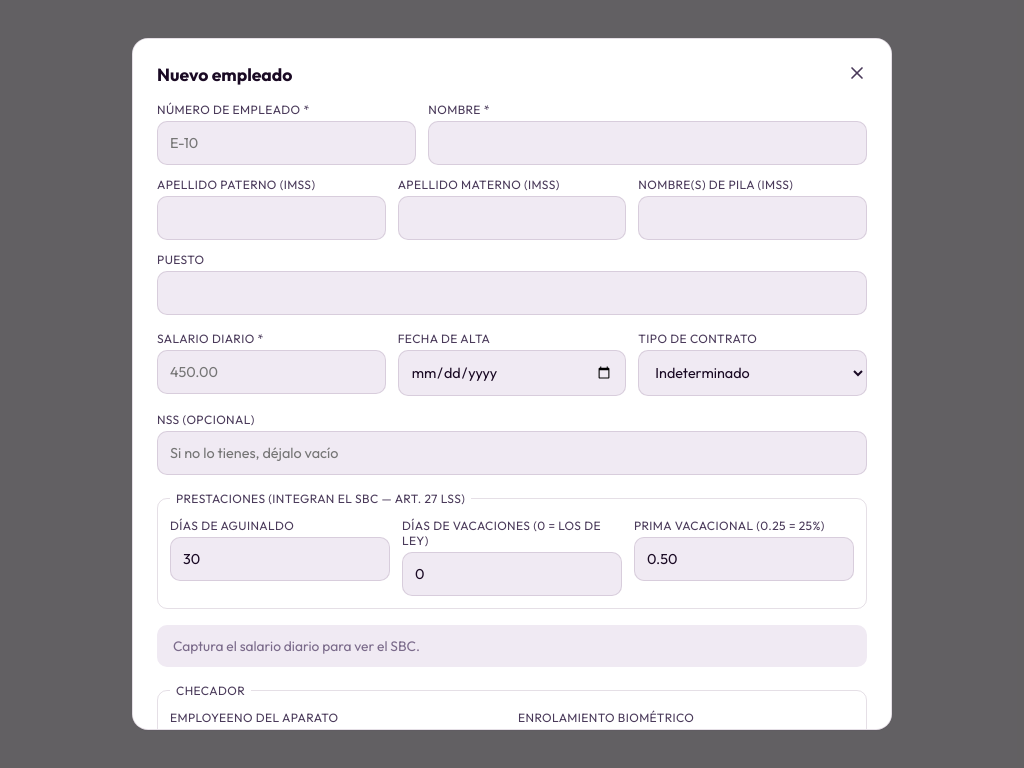
Test: O-03 · las prestaciones del PATRÓN llegan al motor › la escala de vacaciones viaja ENTERA en el cuerpo de /nomina/sbc
Type "N-01" into the field labelled "Número de empleado *" at (287, 143), box [157, 121, 416, 165]
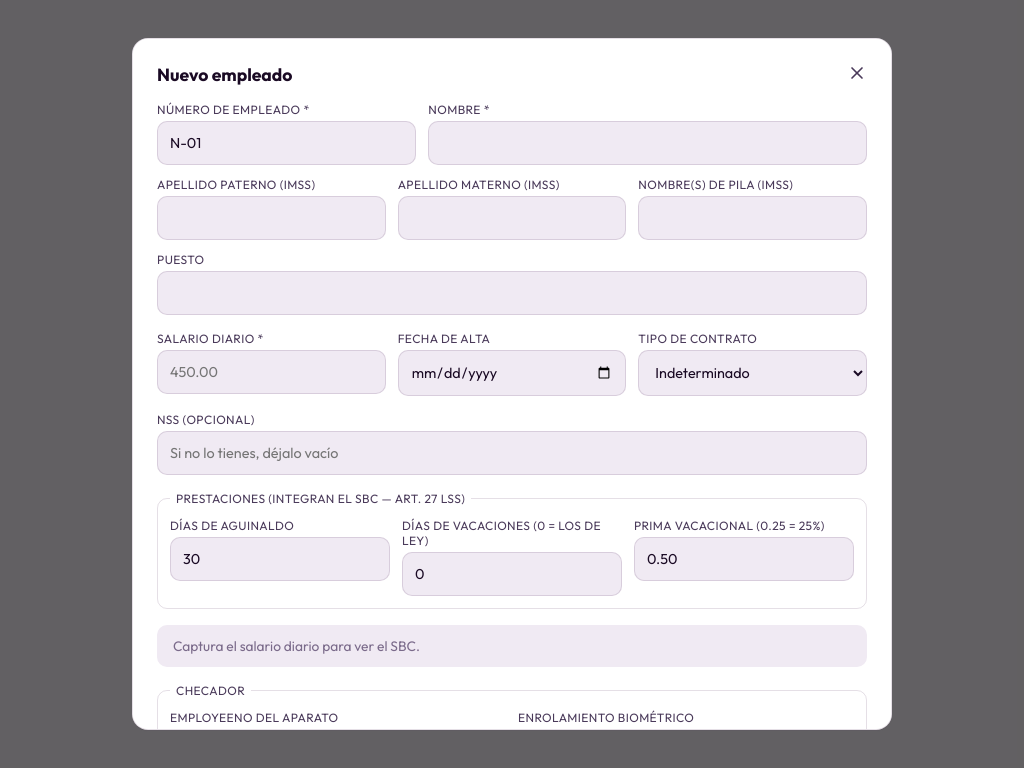
Type "PERSONA NUEVA" into the field labelled "Nombre *" at (648, 143), box [428, 121, 867, 165]
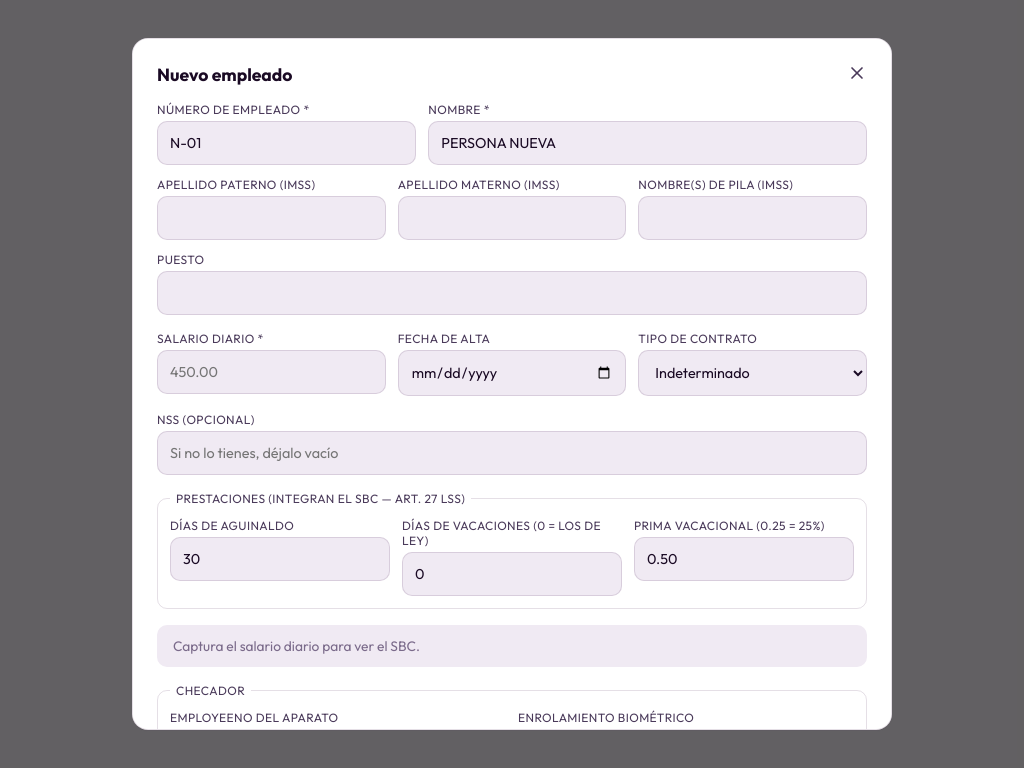
Type "500.00" into the field labelled "Salario diario *" at (271, 372), box [157, 350, 386, 394]
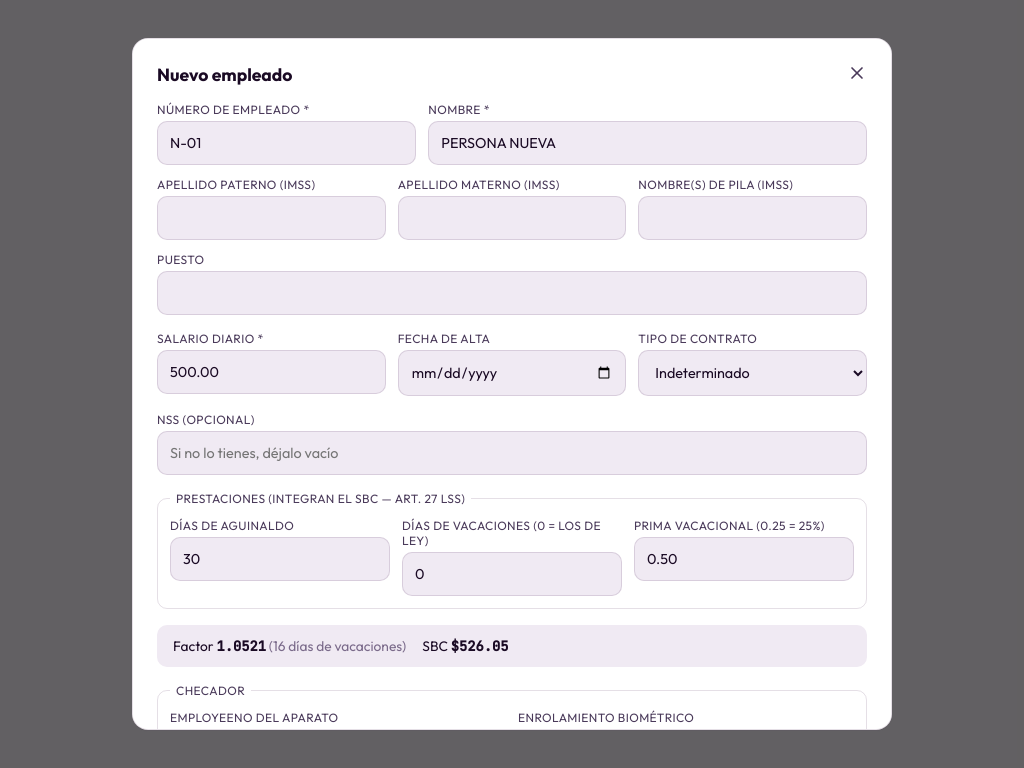
Expected: the text "$526.05" is shown, [451, 637, 509, 655]
